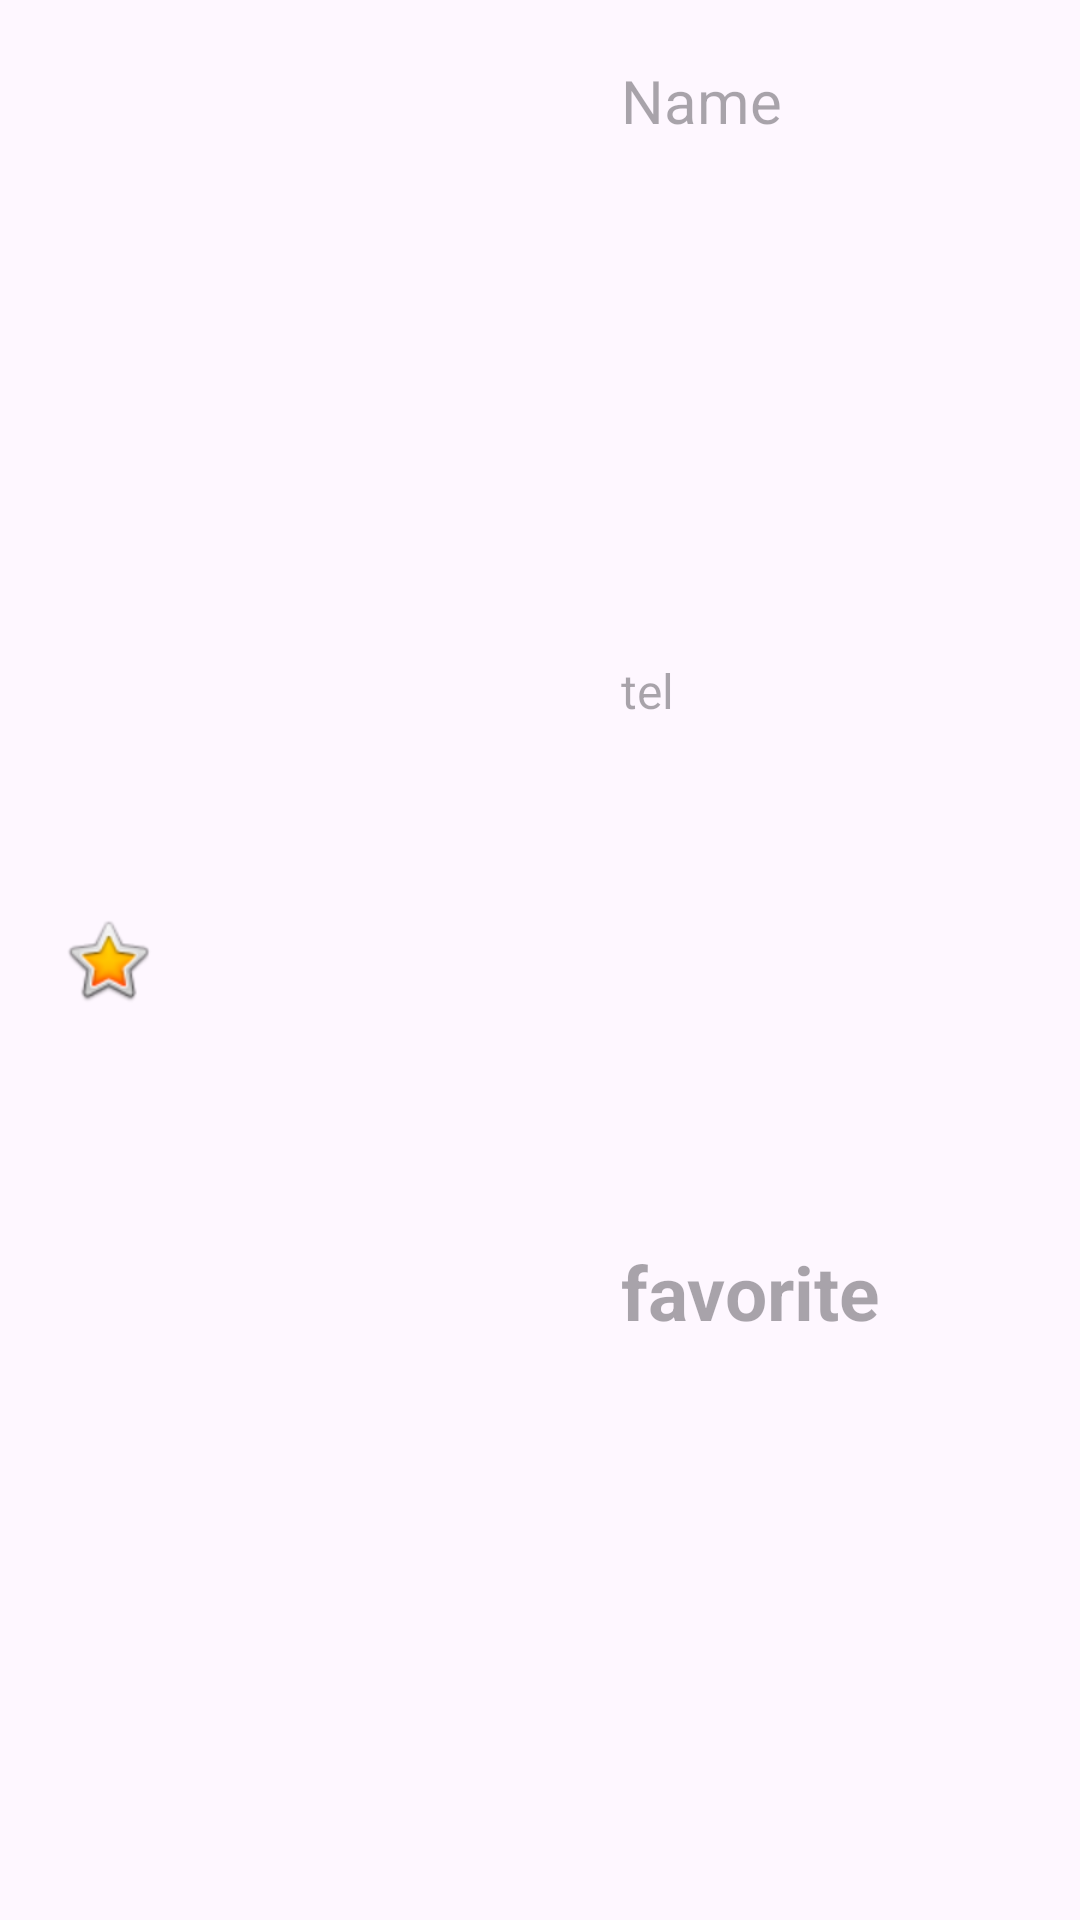

Named icons in this screenshot (1080x1920) and their bounding boxes, (x1, y1, x2, y2):
star on: (69, 922, 149, 1000)
